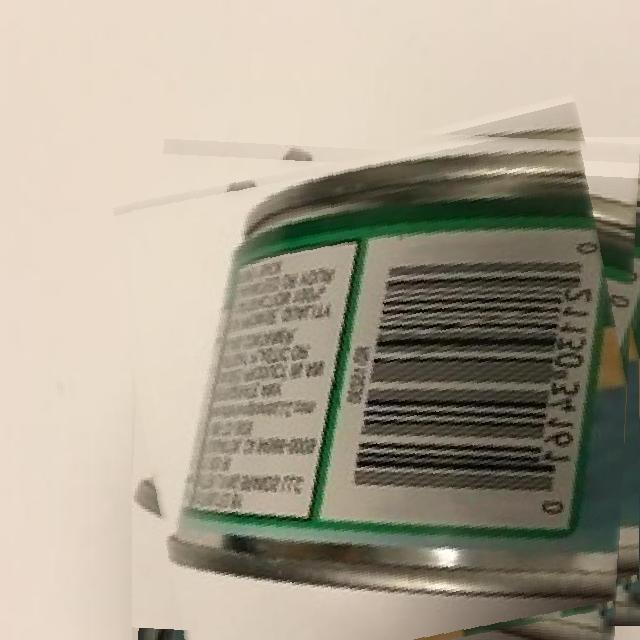recyclable: (132, 118, 640, 640)
